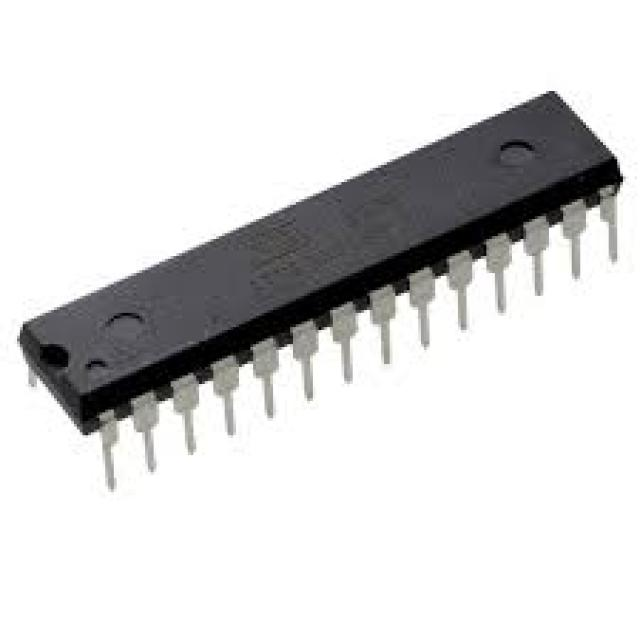atmega: (11, 82, 626, 490)
